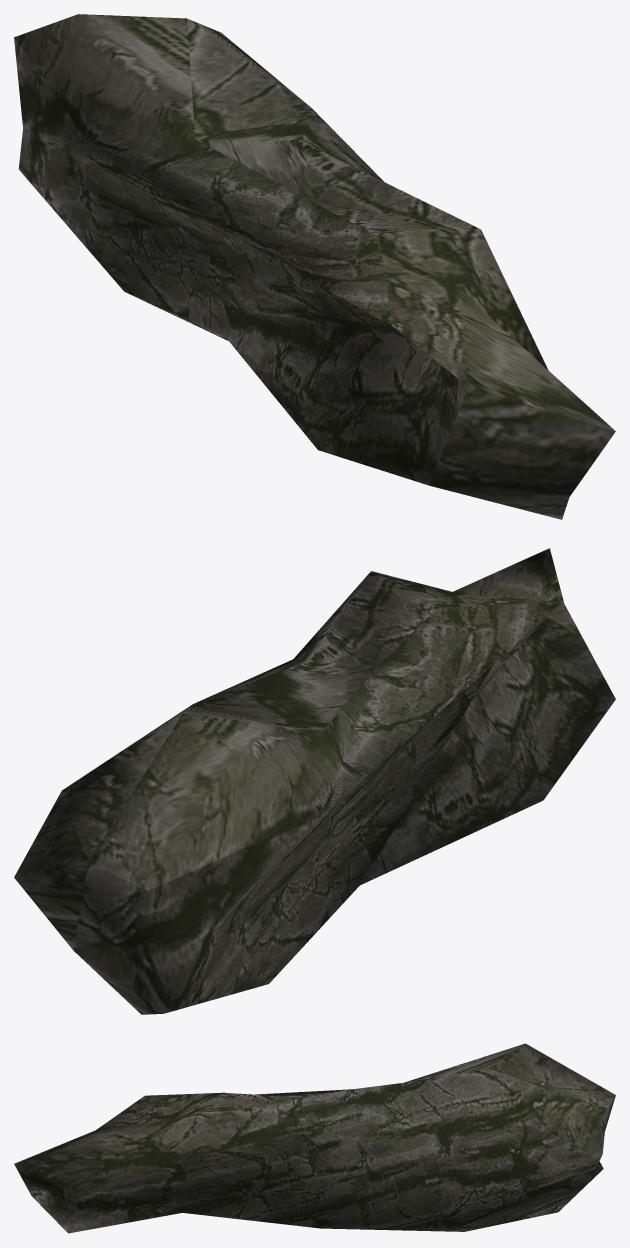
File: TI_Cliff_02_Stone_02_LOD_02.fbx
3 views of the same model, one above another, from view 1: azimuth 30°, elevation 25°; view 2: azimuth 150°, elevation 25°; view 3: azimuth 270°, elevation 25° (orthographic). The views are drawn at different scales.
Parts seen in each view (by area): view 1: TI_Cliff_02_Stone_02_LOD_02; view 2: TI_Cliff_02_Stone_02_LOD_02; view 3: TI_Cliff_02_Stone_02_LOD_02.
Boxes of the visible parts, left/top/right/bottom form: TI_Cliff_02_Stone_02_LOD_02: left=14, top=14, right=615, bottom=519; TI_Cliff_02_Stone_02_LOD_02: left=14, top=548, right=615, bottom=1014; TI_Cliff_02_Stone_02_LOD_02: left=14, top=1043, right=615, bottom=1233.
Bounding box in the file's own units: 0.8075 × 0.975 × 3.35.
